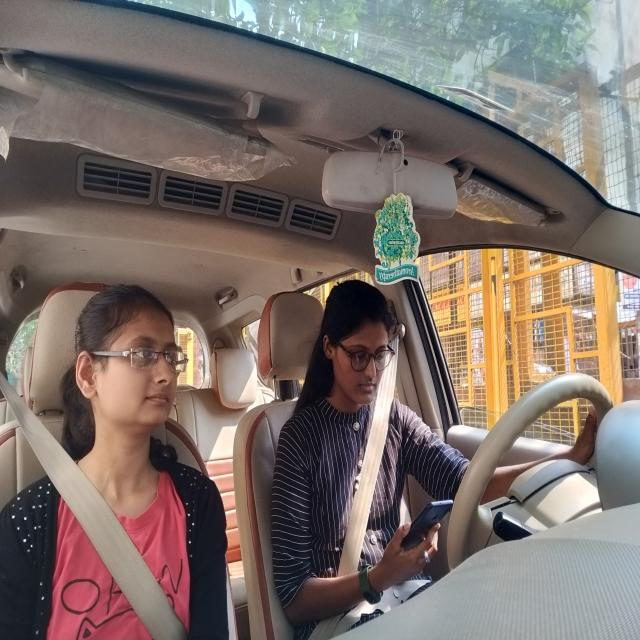mobile: (401, 496, 455, 548)
person: (74, 281, 186, 456), (320, 275, 400, 412)
